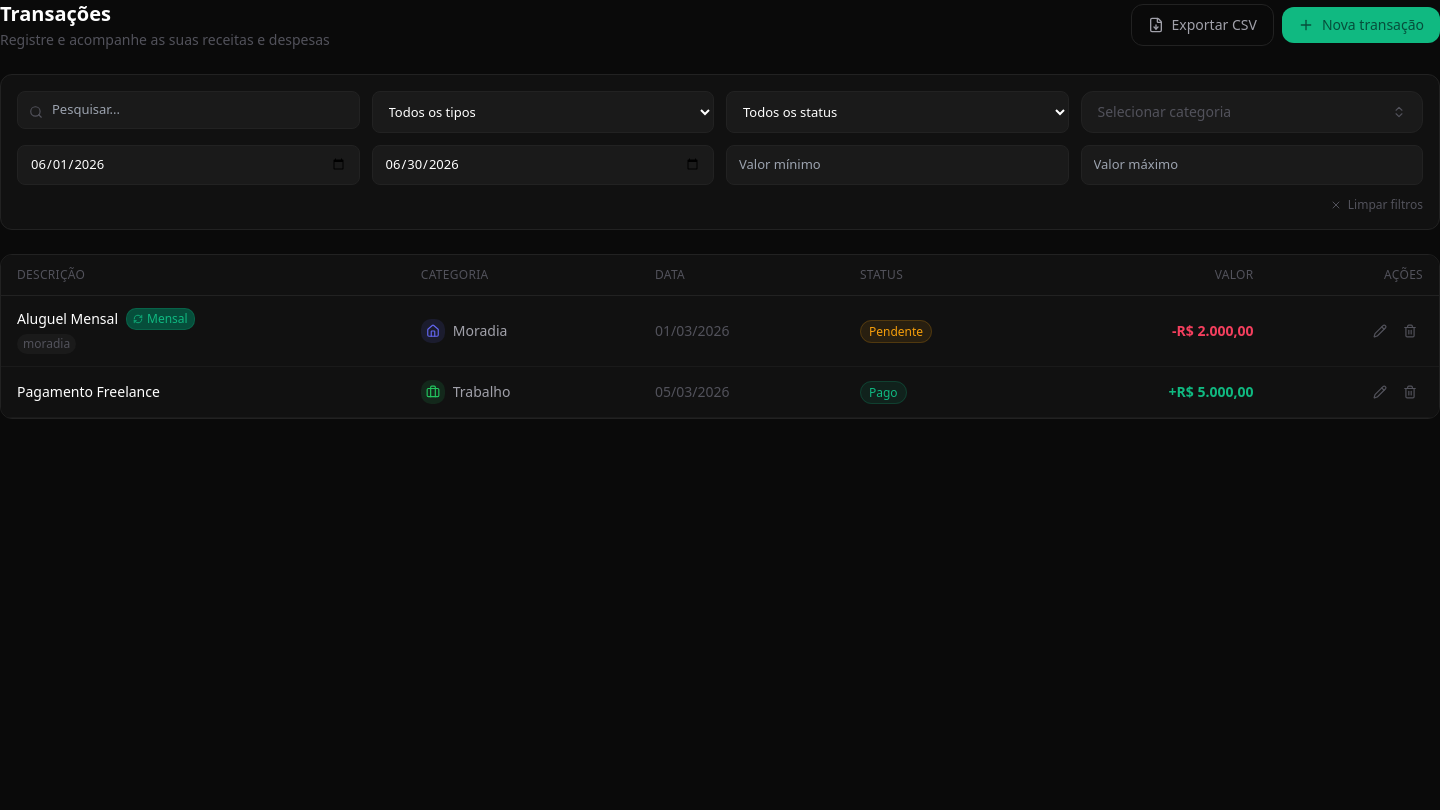
TransactionsPage › deve abrir modal de edição ao clicar em editar
Click the button titled "Editar" in the row of "Aluguel Mensal" at {"x": 1380, "y": 330}, box [1367,318,1393,344]
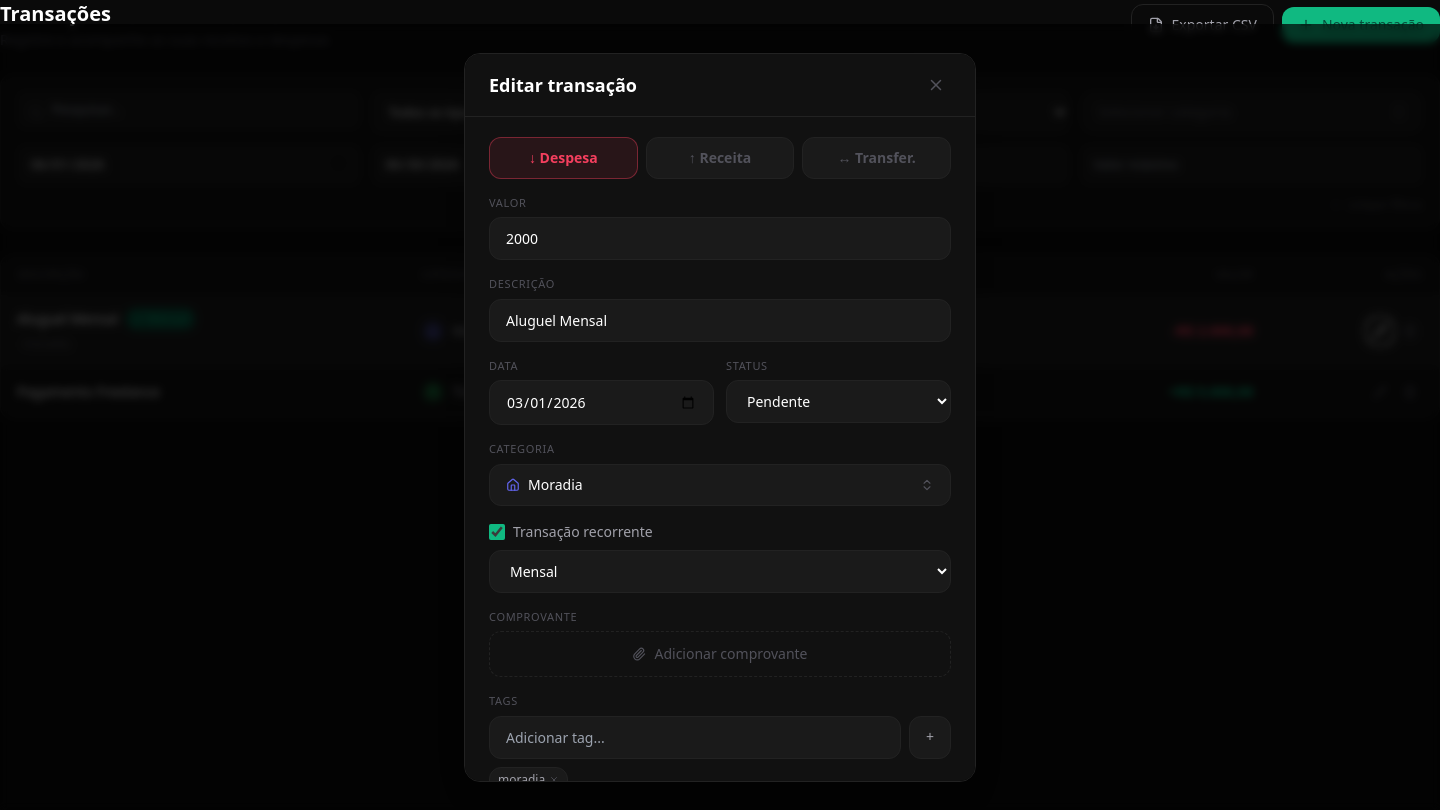
Now the heading "Editar transação" is shown, box [489,70,637,98]
